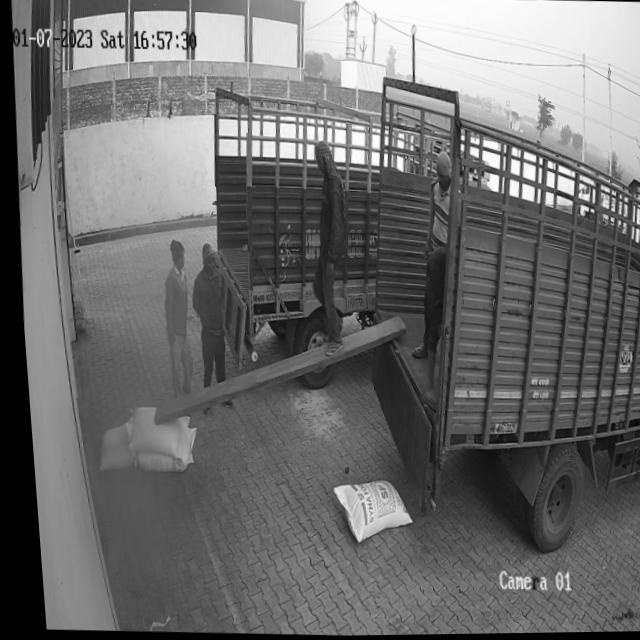sack: (119, 404, 186, 458), (124, 424, 192, 472), (87, 421, 131, 471)
